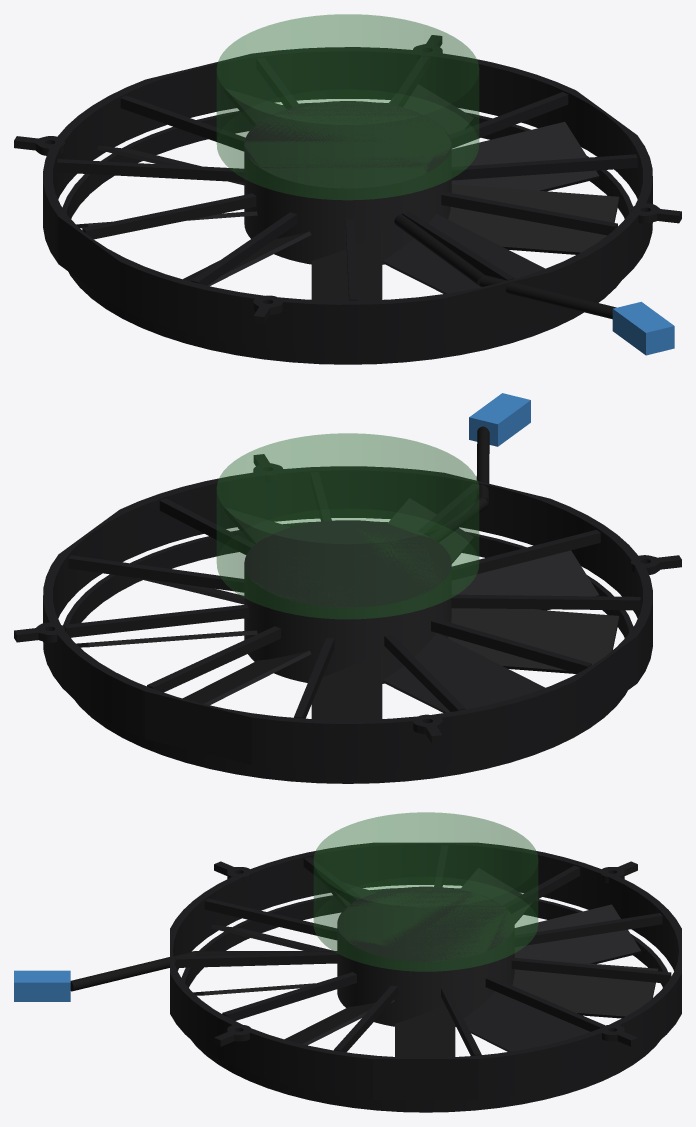
The model's file is FAN.glb.
The picture shows the model from 3 angles, top to bottom: view 1: azimuth 30°, elevation 25°; view 2: azimuth 150°, elevation 25°; view 3: azimuth 270°, elevation 25°; orthographic projection. The views are drawn at different scales.
Visible parts, largest first — view 1: FAN ring, rear lip, tabs and spokes, keep-out: engine-side air and the water pump (60 mm), FAN brushless motor (hub), FAN blades (9), FAN lead (430), FAN connector; view 2: FAN ring, rear lip, tabs and spokes, keep-out: engine-side air and the water pump (60 mm), FAN blades (9), FAN brushless motor (hub), FAN connector, FAN lead (430); view 3: FAN ring, rear lip, tabs and spokes, keep-out: engine-side air and the water pump (60 mm), FAN blades (9), FAN brushless motor (hub), FAN connector, FAN lead (430).
Boxes of the visible parts, x1=… form: FAN ring, rear lip, tabs and spokes: x1=14, y1=35, x2=681, y2=364; keep-out: engine-side air and the water pump (60 mm): x1=217, y1=14, x2=478, y2=199; FAN brushless motor (hub): x1=244, y1=101, x2=451, y2=264; FAN blades (9): x1=76, y1=84, x2=619, y2=300; FAN lead (430): x1=394, y1=214, x2=616, y2=319; FAN connector: x1=612, y1=301, x2=674, y2=355; FAN ring, rear lip, tabs and spokes: x1=14, y1=454, x2=681, y2=783; keep-out: engine-side air and the water pump (60 mm): x1=217, y1=433, x2=478, y2=618; FAN blades (9): x1=76, y1=498, x2=619, y2=719; FAN brushless motor (hub): x1=244, y1=520, x2=451, y2=683; FAN connector: x1=469, y1=393, x2=530, y2=446; FAN lead (430): x1=427, y1=426, x2=489, y2=542; FAN ring, rear lip, tabs and spokes: x1=170, y1=842, x2=681, y2=1112; keep-out: engine-side air and the water pump (60 mm): x1=314, y1=812, x2=537, y2=971; FAN blades (9): x1=193, y1=868, x2=658, y2=1057; FAN brushless motor (hub): x1=337, y1=886, x2=514, y2=1026; FAN connector: x1=14, y1=970, x2=70, y2=1001; FAN lead (430): x1=70, y1=951, x2=337, y2=991.
Size of the model in its own units: 0.4325 by 0.1384 by 0.5643.
